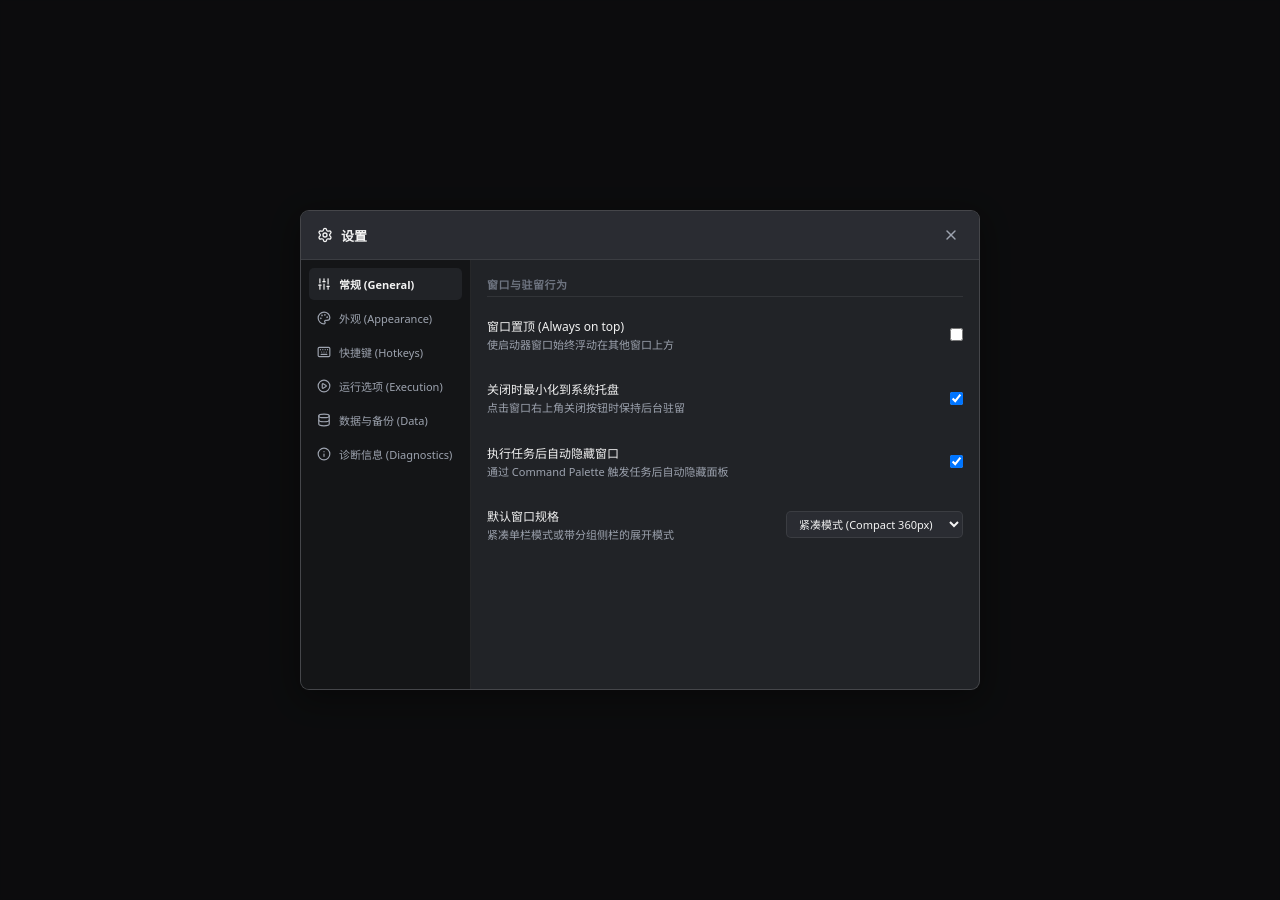
Test: SettingsDialog › renders a sanitized diagnostics path
Click the button "诊断信息 (Diagnostics)": (386, 454) 309,438 -> 462,470
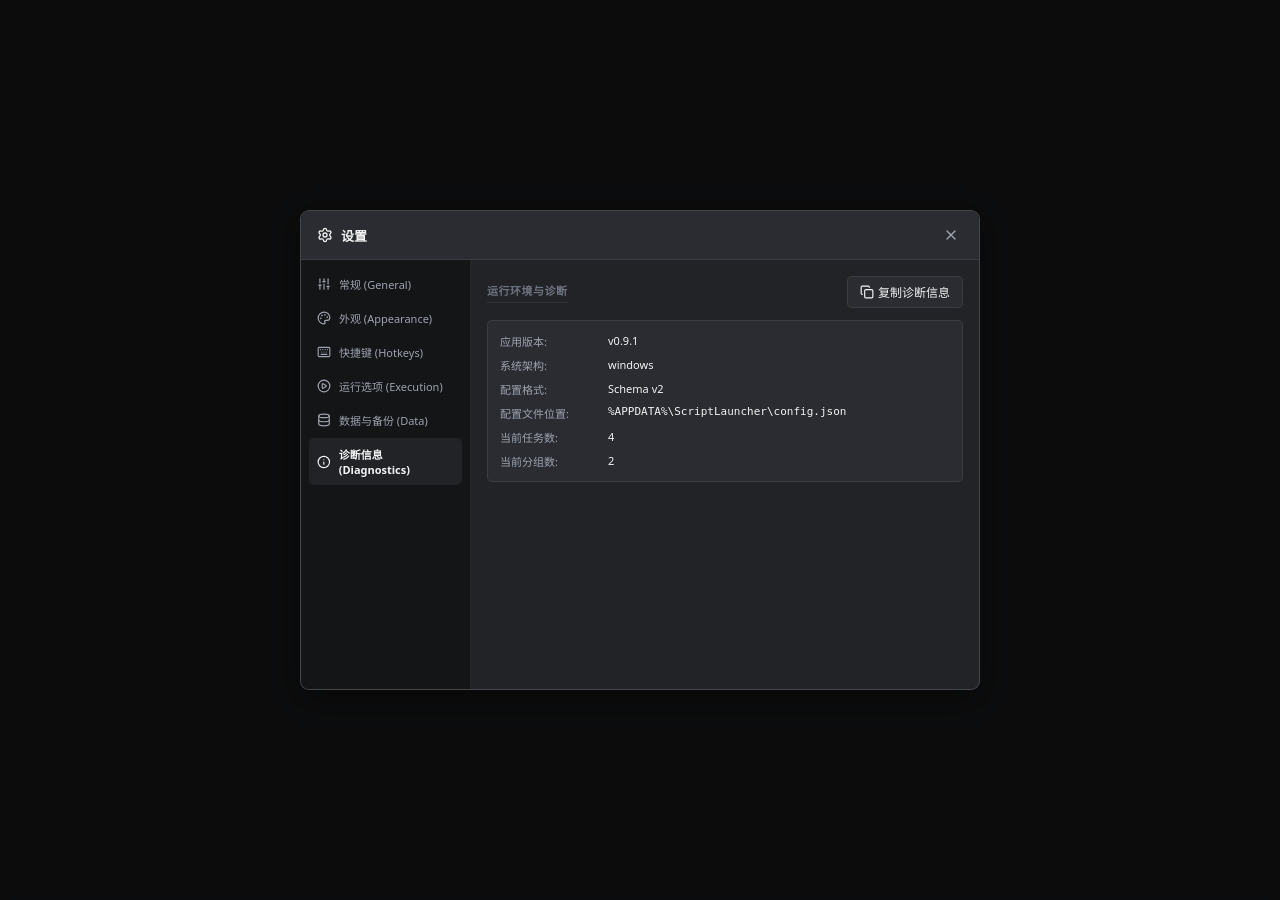
Expected: the text "%APPDATA%\\ScriptLauncher\\config.json" is shown, 608,405 -> 846,418
